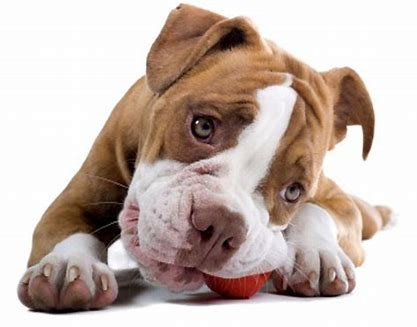dog: (23, 4, 389, 316)
